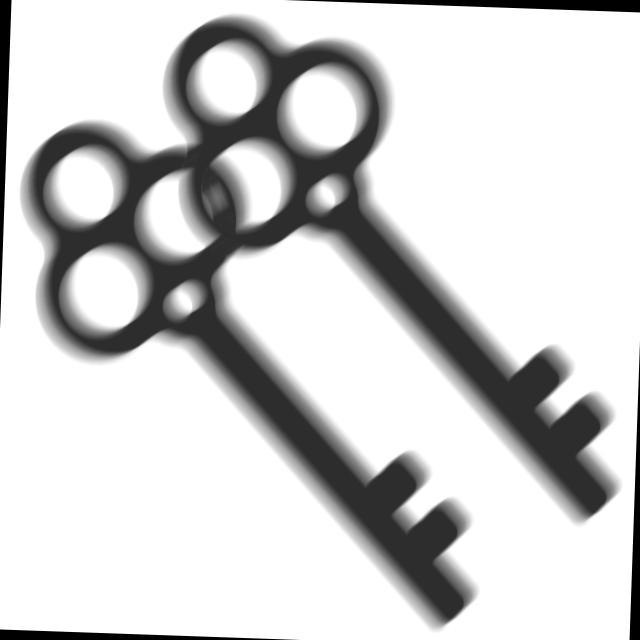key: (123, 8, 631, 556), (9, 101, 525, 640)
